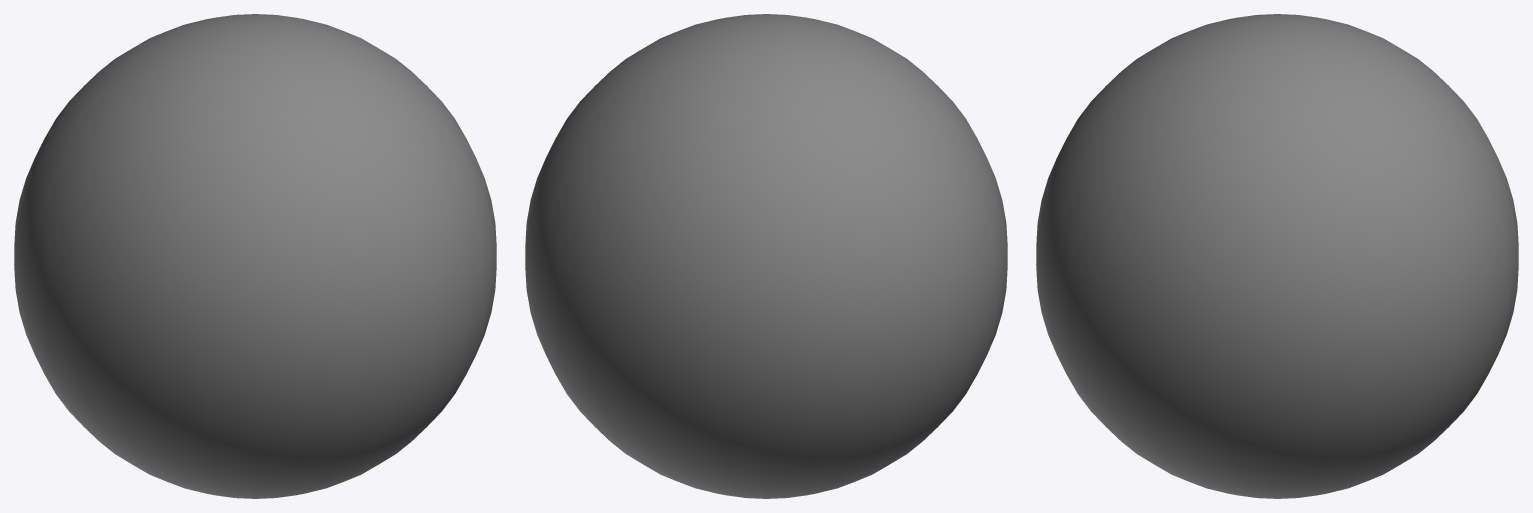
The model's file is hitbox_maru.obj.
3 renders of one model, left to right at view 1: azimuth 30°, elevation 25°; view 2: azimuth 150°, elevation 25°; view 3: azimuth 270°, elevation 25°, orthographic.
Visible parts, largest first — view 1: pSphere1; view 2: pSphere1; view 3: pSphere1.
Part boxes in pixels (x1,y1,x2,y2): pSphere1: [14, 14, 496, 498]; pSphere1: [525, 14, 1007, 498]; pSphere1: [1036, 14, 1518, 498].
Bounding box in the file's own units: 1 × 1 × 0.9945.
1 material, 1 textured.
